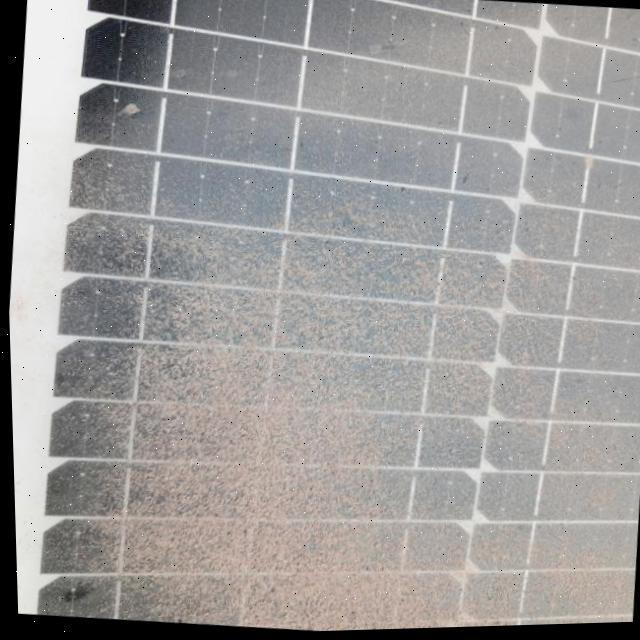Surface Contaminant: (36, 0, 640, 633)
